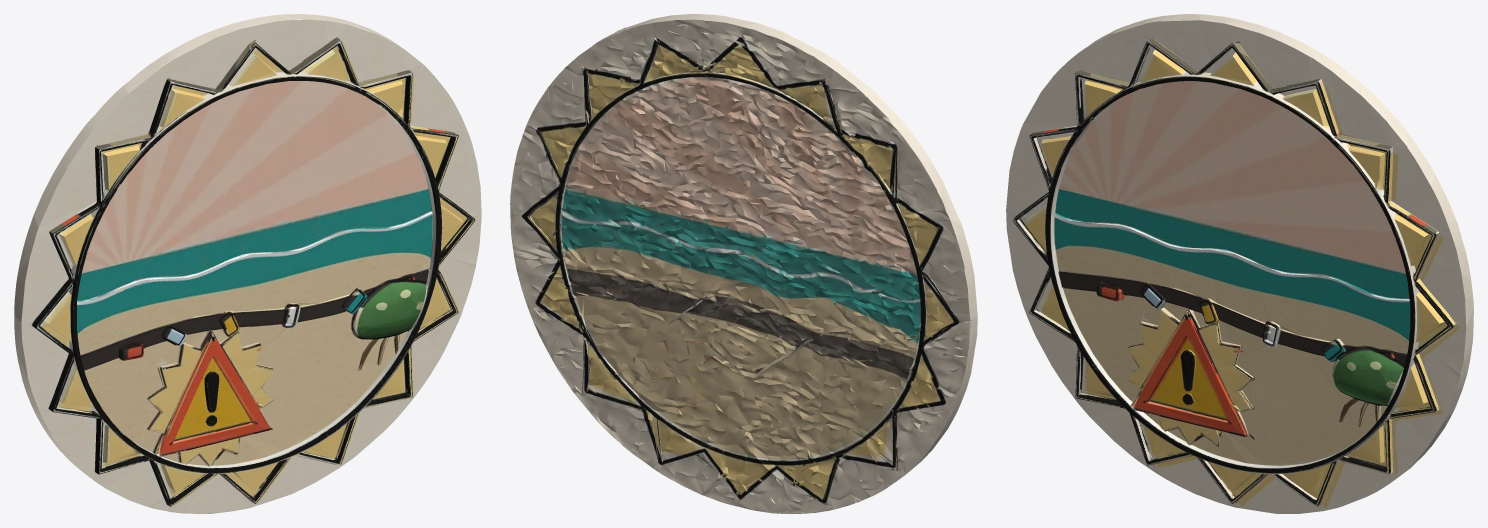
The model's file is orilla.glb.
The picture shows the model from 3 angles, left to right: view 1: azimuth 30°, elevation 25°; view 2: azimuth 150°, elevation 25°; view 3: azimuth 330°, elevation 25°; orthographic projection.
Size of the model in its own units: 1.9 by 1.9 by 0.1251.
Materials: 1 (1 with a texture image).
